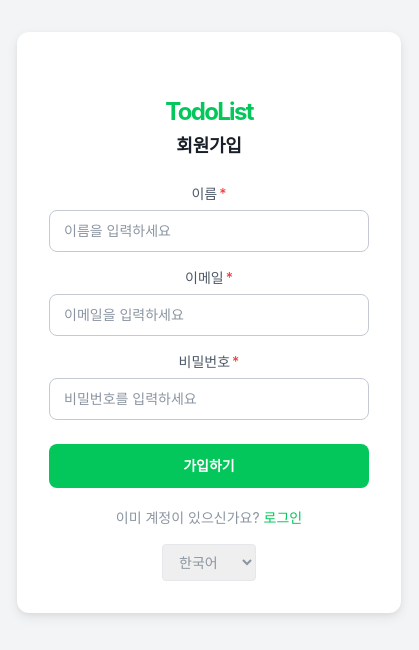
Test: RegisterPage › 회원가입 실패 › 기타 에러 시 폼 에러 메시지를 표시한다
Step 1. Type "홍길동" into the field with placeholder "이름을 입력하세요" → (209, 230), box [49, 210, 369, 252]
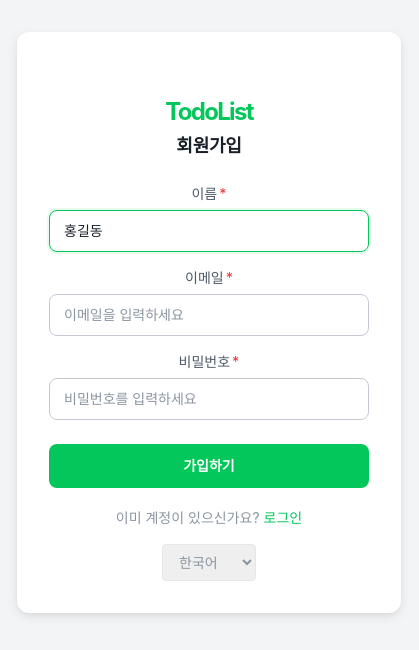
Step 2. Type "a@b.com" into the field with placeholder "이메일을 입력하세요" → (209, 314), box [49, 294, 369, 336]
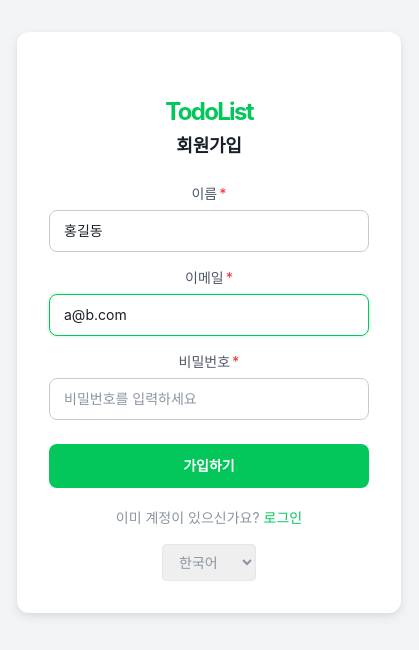
Step 3. Type "pw" into the password field with placeholder "비밀번호를 입력하세요" → (209, 398), box [49, 378, 369, 420]
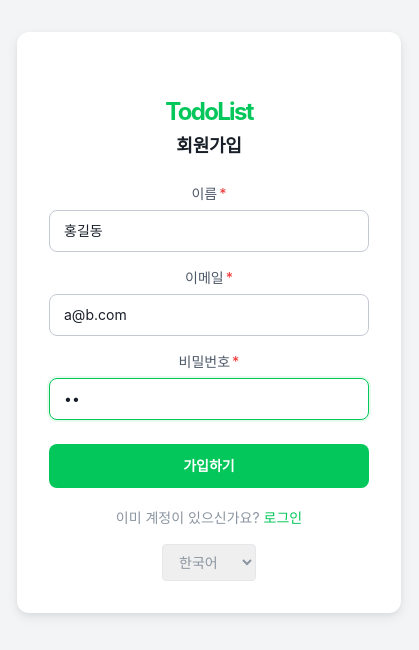
Step 4. Click the button "가입하기" → (209, 466), box [49, 444, 369, 488]
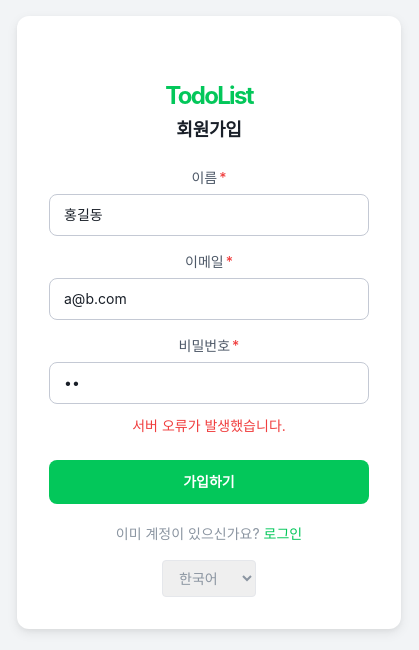
Check: the message reads "서버 오류가 발생했습니다.", box [132, 416, 286, 434]
